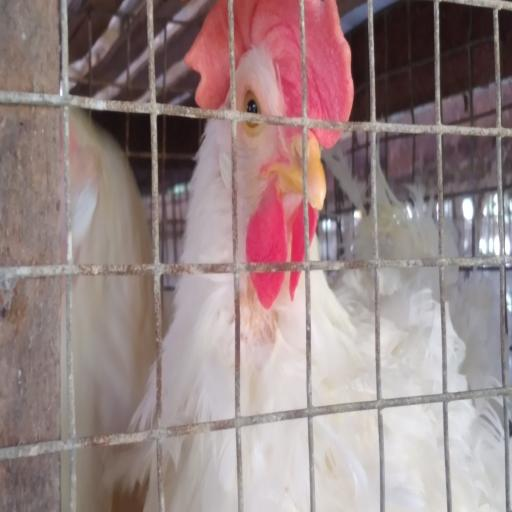healthy: (192, 0, 360, 278)
